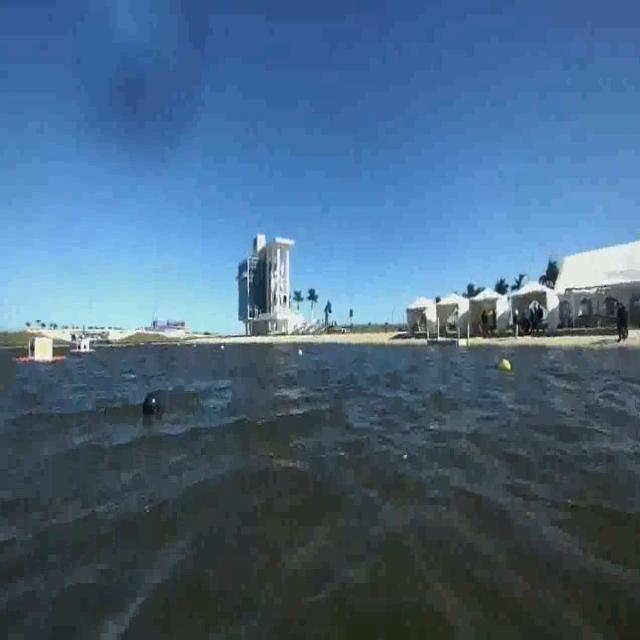black-buoy: (139, 390, 165, 431)
yellow-buoy: (499, 356, 512, 374)
